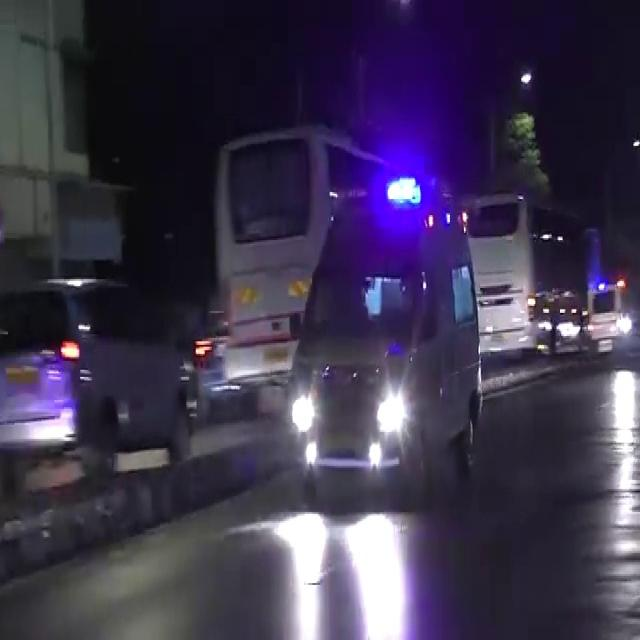ambulance: (290, 194, 508, 505)
